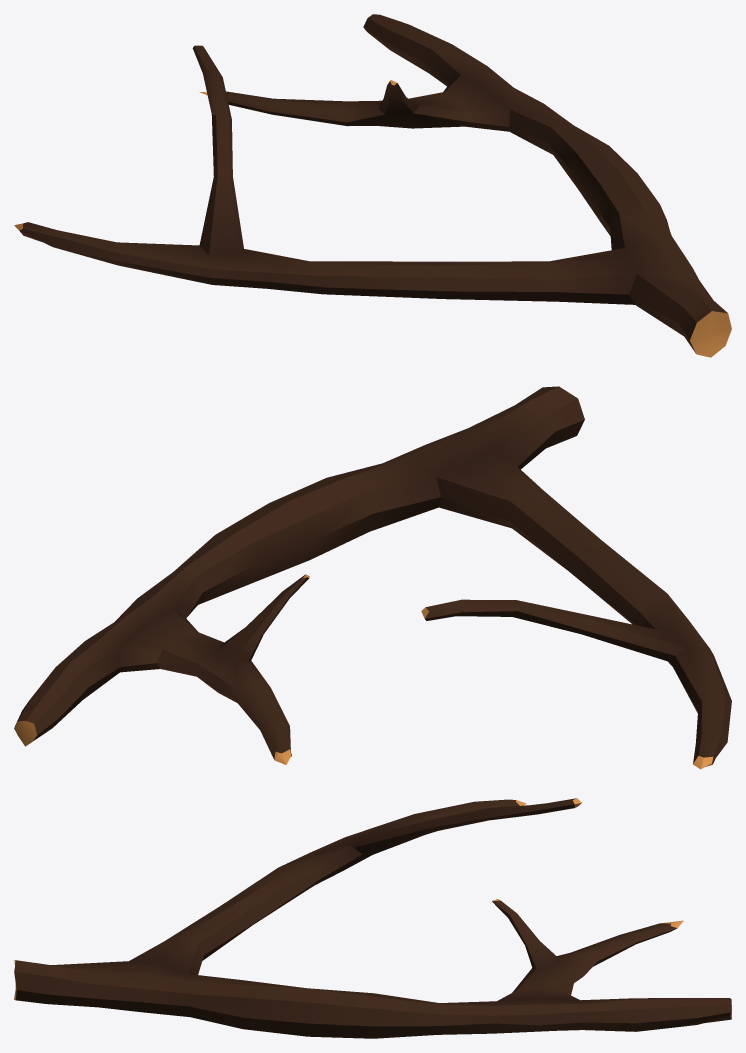
Rendered from Branch2.fbx.
3 renders of one model, top to bottom at view 1: azimuth 30°, elevation 25°; view 2: azimuth 150°, elevation 25°; view 3: azimuth 270°, elevation 25°, orthographic. The views are drawn at different scales.
Parts seen in each view (by area): view 1: Branch2; view 2: Branch2; view 3: Branch2.
Part boxes in pixels (x1,y1,x2,y2): Branch2: [14, 14, 731, 357]; Branch2: [14, 386, 731, 769]; Branch2: [14, 798, 731, 1038].
Bounding box in the file's own units: 978 × 242 × 1316.
